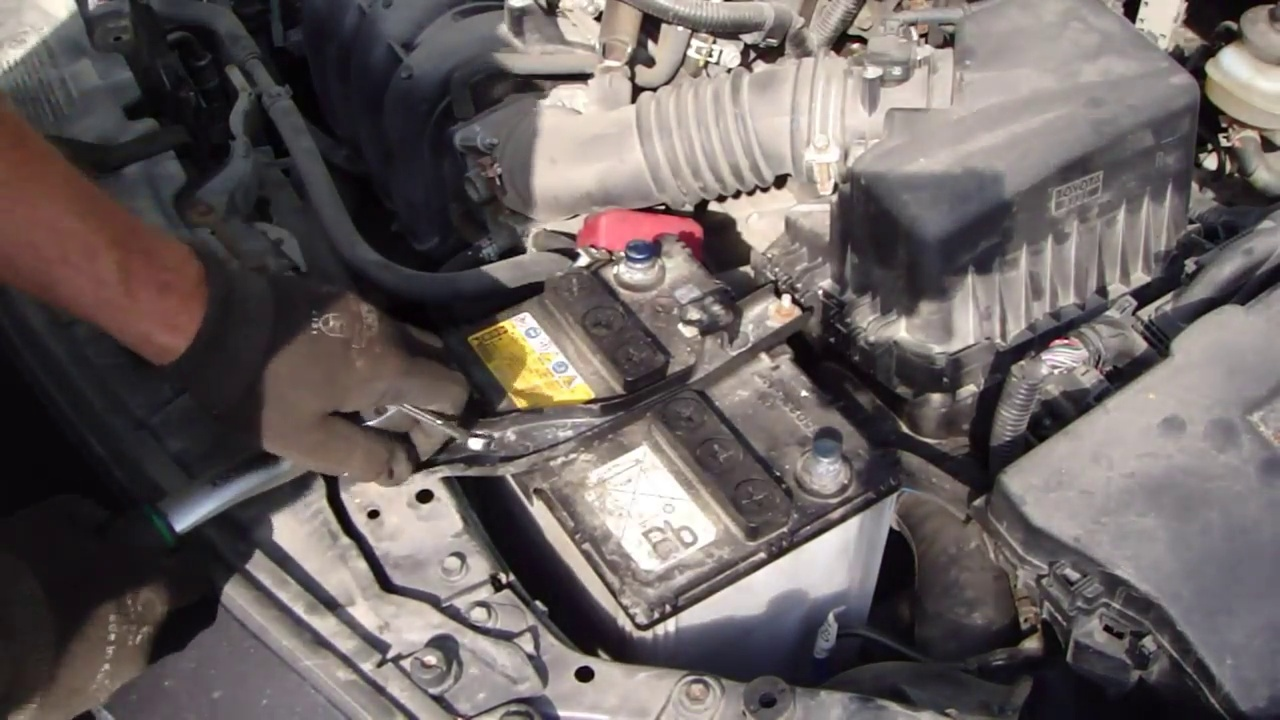battery: (445, 228, 897, 581)
neg_disconnected: (776, 412, 896, 520)
pos_disconnected: (564, 201, 702, 307)
